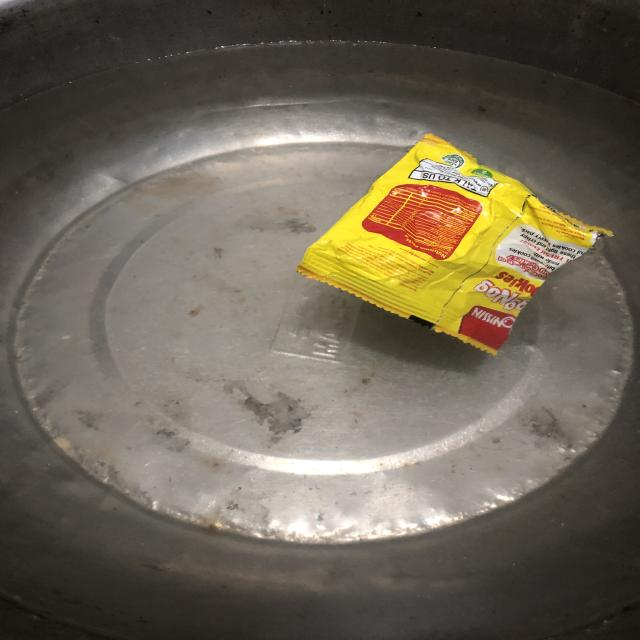Plastic Wrapper: (268, 103, 628, 372)
